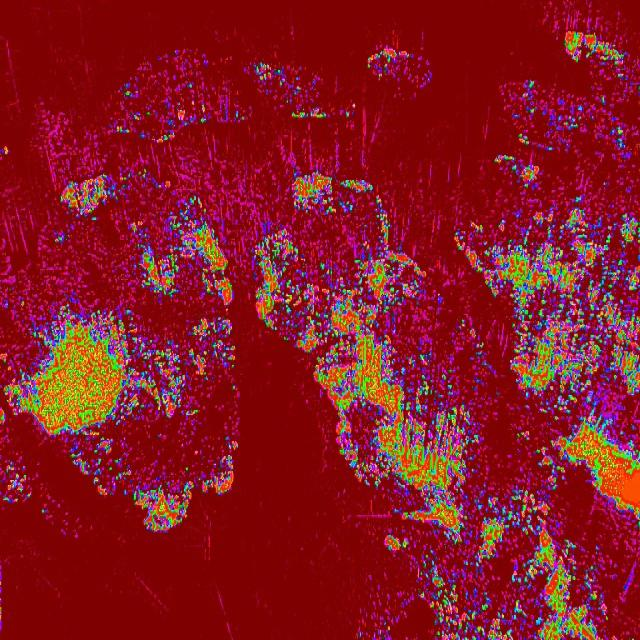fire: (0, 44, 238, 534), (485, 80, 640, 640), (247, 150, 433, 350), (311, 351, 484, 510), (374, 509, 485, 640), (248, 52, 330, 119), (349, 45, 443, 103), (556, 26, 636, 70), (448, 218, 484, 274)
